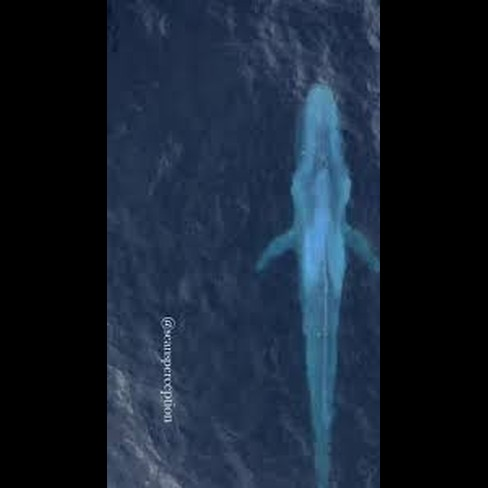bluewhale: (252, 81, 379, 488)
